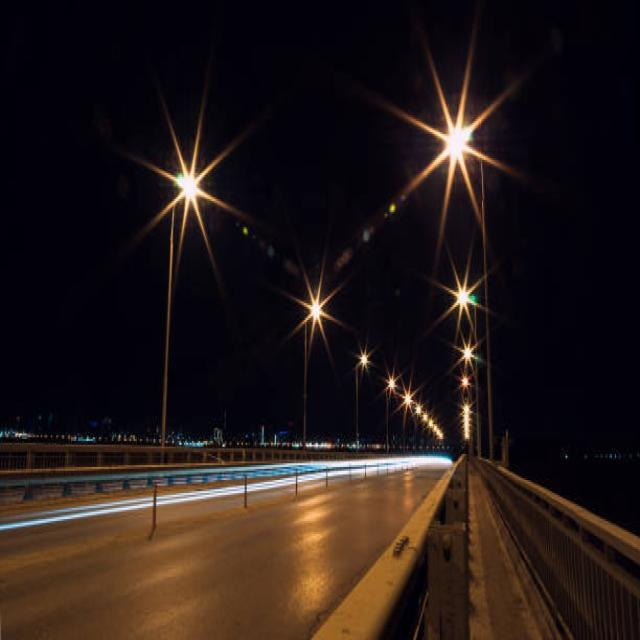acesa: (429, 102, 488, 179), (172, 164, 207, 210), (452, 279, 479, 319), (352, 340, 378, 381), (303, 290, 329, 329)
